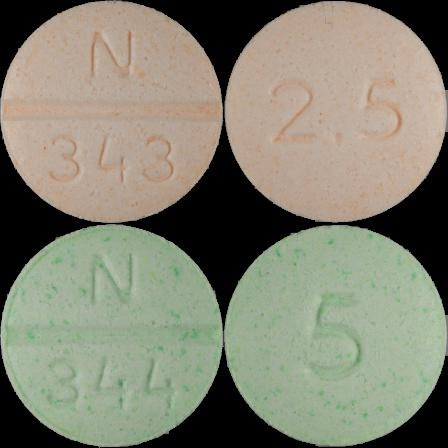42291-316: (0, 0, 224, 224)
